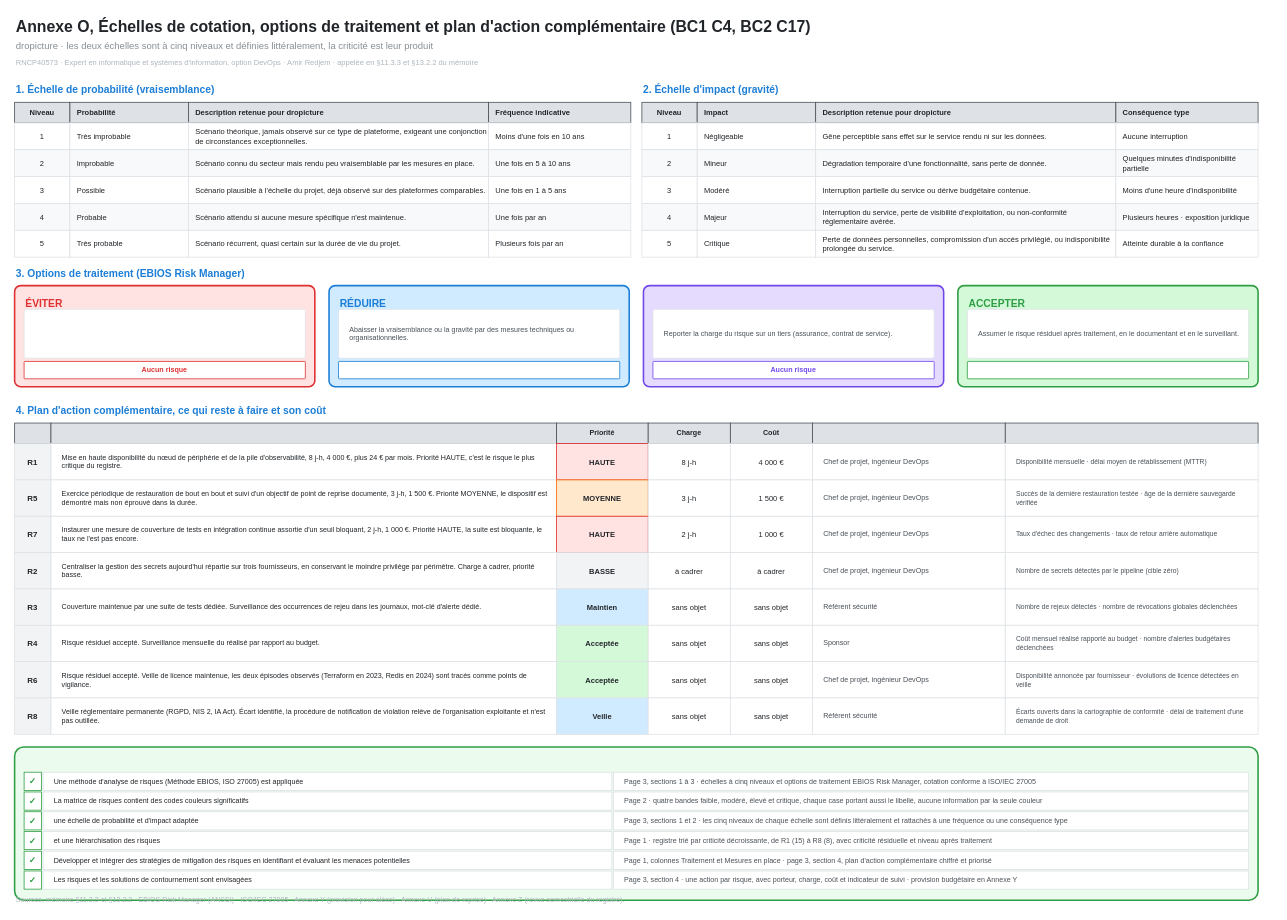
Image size: 1287x920. Some labels were removed from this diagram. The shapes that lost their labels are listed below. From the top down, each one's box as (x1, y1, x2, y2) in pixels, then its label:
(23, 308, 305, 358): Supprimer la source du risque en renonçant à l'activité qui l'engendre.
(642, 284, 944, 387): TRANSFÉRER
(338, 361, 620, 379): Sept risques sur huit
(967, 361, 1249, 379): R4 et R6, après réduction
(14, 422, 51, 444): ID
(50, 422, 557, 444): Action complémentaire
(812, 422, 1005, 444): Porteur
(1004, 422, 1258, 444): Indicateur de suivi
(13, 746, 1258, 901): CRITÈRES DU RÉFÉRENTIEL COUVERTS
